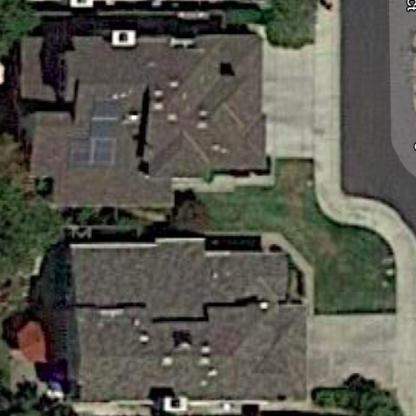solar_panel: (79, 89, 132, 180)
